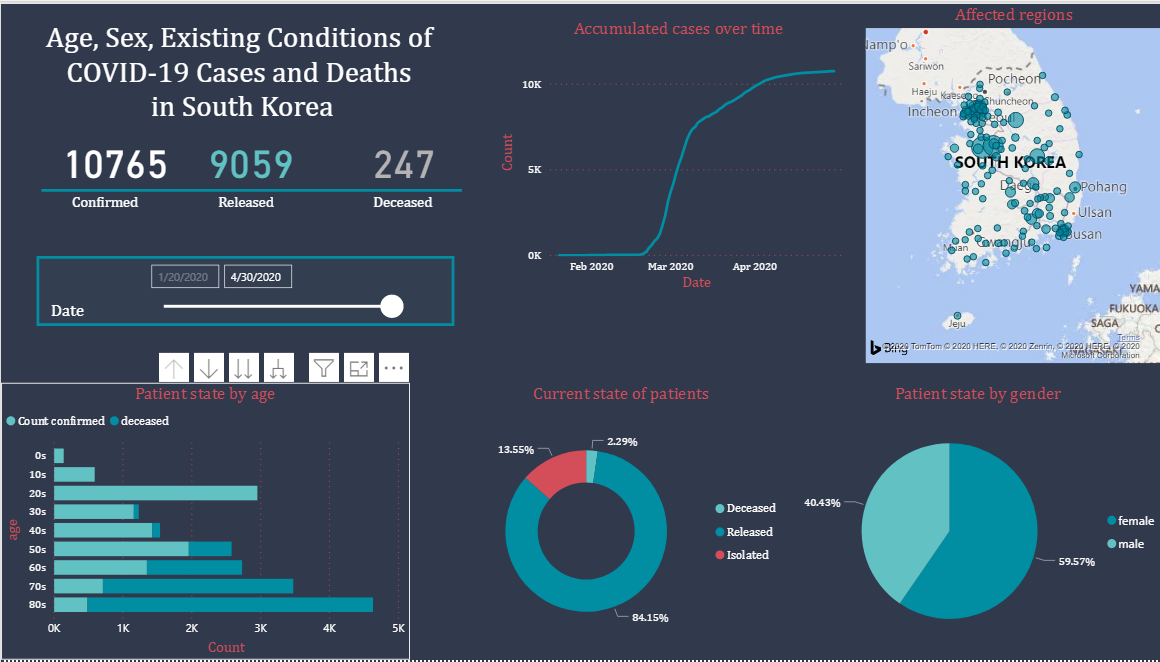

The page's visual inventory and layout, read from the dashboard file:
{"tool":"powerbi","page":{"name":"Page 1","canvas":[1280,720],"ordinal":0},"visuals":[{"type":"lineChart","title":"Accumulated cases over time","fields":{"Y":["Sum(Time.confirmed)"],"Category":["Time.date"]},"box":[543.3,15.1,400.6,304.6],"z":0},{"type":"card","title":"Confirmed","fields":{"Values":["Max(Time.confirmed)"]},"box":[53.5,130.3,144.1,82.3],"z":0,"group":"g1"},{"type":"card","title":"Deceased","fields":{"Values":["Max(Time.deceased)"]},"box":[369,130.3,146.8,82.3],"z":1000,"group":"g1"},{"type":"barChart","title":"Patient state by age","fields":{"Category":["TimeAge.age","TimeAge.date"],"Y":["Max(TimeAge.confirmed)","Sum(TimeAge.deceased)"]},"box":[0,416,448,304],"z":1000},{"type":"card","title":"Released","fields":{"Values":["Max(Time.released)"]},"box":[197.6,130.3,153.7,82.3],"z":2000,"group":"g1"},{"type":"pieChart","title":"Patient state by gender","fields":{"Category":["TimeGender.sex"],"Y":["Max(TimeGender.confirmed)"]},"box":[864.3,415.7,415.7,304.6],"z":2000},{"type":"map","title":"Affected regions","fields":{"Category":["PatientRoute.city"],"Size":["CountNonNull(PatientRoute.patient_id)"],"X":["Avg(PatientRoute.longitude)"],"Y":["Avg(PatientRoute.latitude)"]},"box":[944,0,336,400],"z":3000},{"type":"basicShape","box":[34.3,186.5,481.5,35.7],"z":3000,"group":"g1"},{"type":"textbox","box":[34.3,203,493.9,38.4],"z":4000,"group":"g1"},{"type":"basicShape","box":[34,275.7,467.8,78.2],"z":4000,"group":"g2"},{"type":"donutChart","title":"Current state of patients","fields":{"Y":["Max(Time.deceased)","Max(Time.released)","Time.L_isolated"]},"box":[496.6,415.7,367.7,304.6],"z":5000},{"type":"textbox","box":[17.8,12.3,493.9,188],"z":6000},{"type":"group","id":"g1","title":"Group 1","box":[34.3,130.3,493.9,111.1],"z":7000},{"type":"slicer","fields":{"Values":["Time.date"]},"box":[152,275.7,300.5,89.2],"z":8000,"group":"g2"},{"type":"textbox","box":[49.1,319.6,93.3,41.2],"z":9000,"group":"g2"},{"type":"group","id":"g2","title":"Group 2","box":[34,275.7,468.1,88.5],"z":9001}]}

Visuals, with their boxes in screenshot pixels (x1, y1, x2, y2), scaled from the page's 1280x720 canvas onto the 1160x662 screenshot:
"Accumulated cases over time" lineChart: left=492, top=14, right=855, bottom=294
"Confirmed" card: left=48, top=120, right=179, bottom=195
"Deceased" card: left=334, top=120, right=467, bottom=195
"Patient state by age" barChart: left=0, top=382, right=406, bottom=661
"Released" card: left=179, top=120, right=318, bottom=195
"Patient state by gender" pieChart: left=783, top=382, right=1159, bottom=661
"Affected regions" map: left=856, top=0, right=1159, bottom=368
basicShape: left=31, top=171, right=467, bottom=204
textbox: left=31, top=187, right=479, bottom=222
basicShape: left=31, top=253, right=455, bottom=325
"Current state of patients" donutChart: left=450, top=382, right=783, bottom=661
textbox: left=16, top=11, right=464, bottom=184
"Group 1" group: left=31, top=120, right=479, bottom=222
slicer - Time.date: left=138, top=253, right=410, bottom=336
textbox: left=44, top=294, right=129, bottom=332
"Group 2" group: left=31, top=253, right=455, bottom=335
